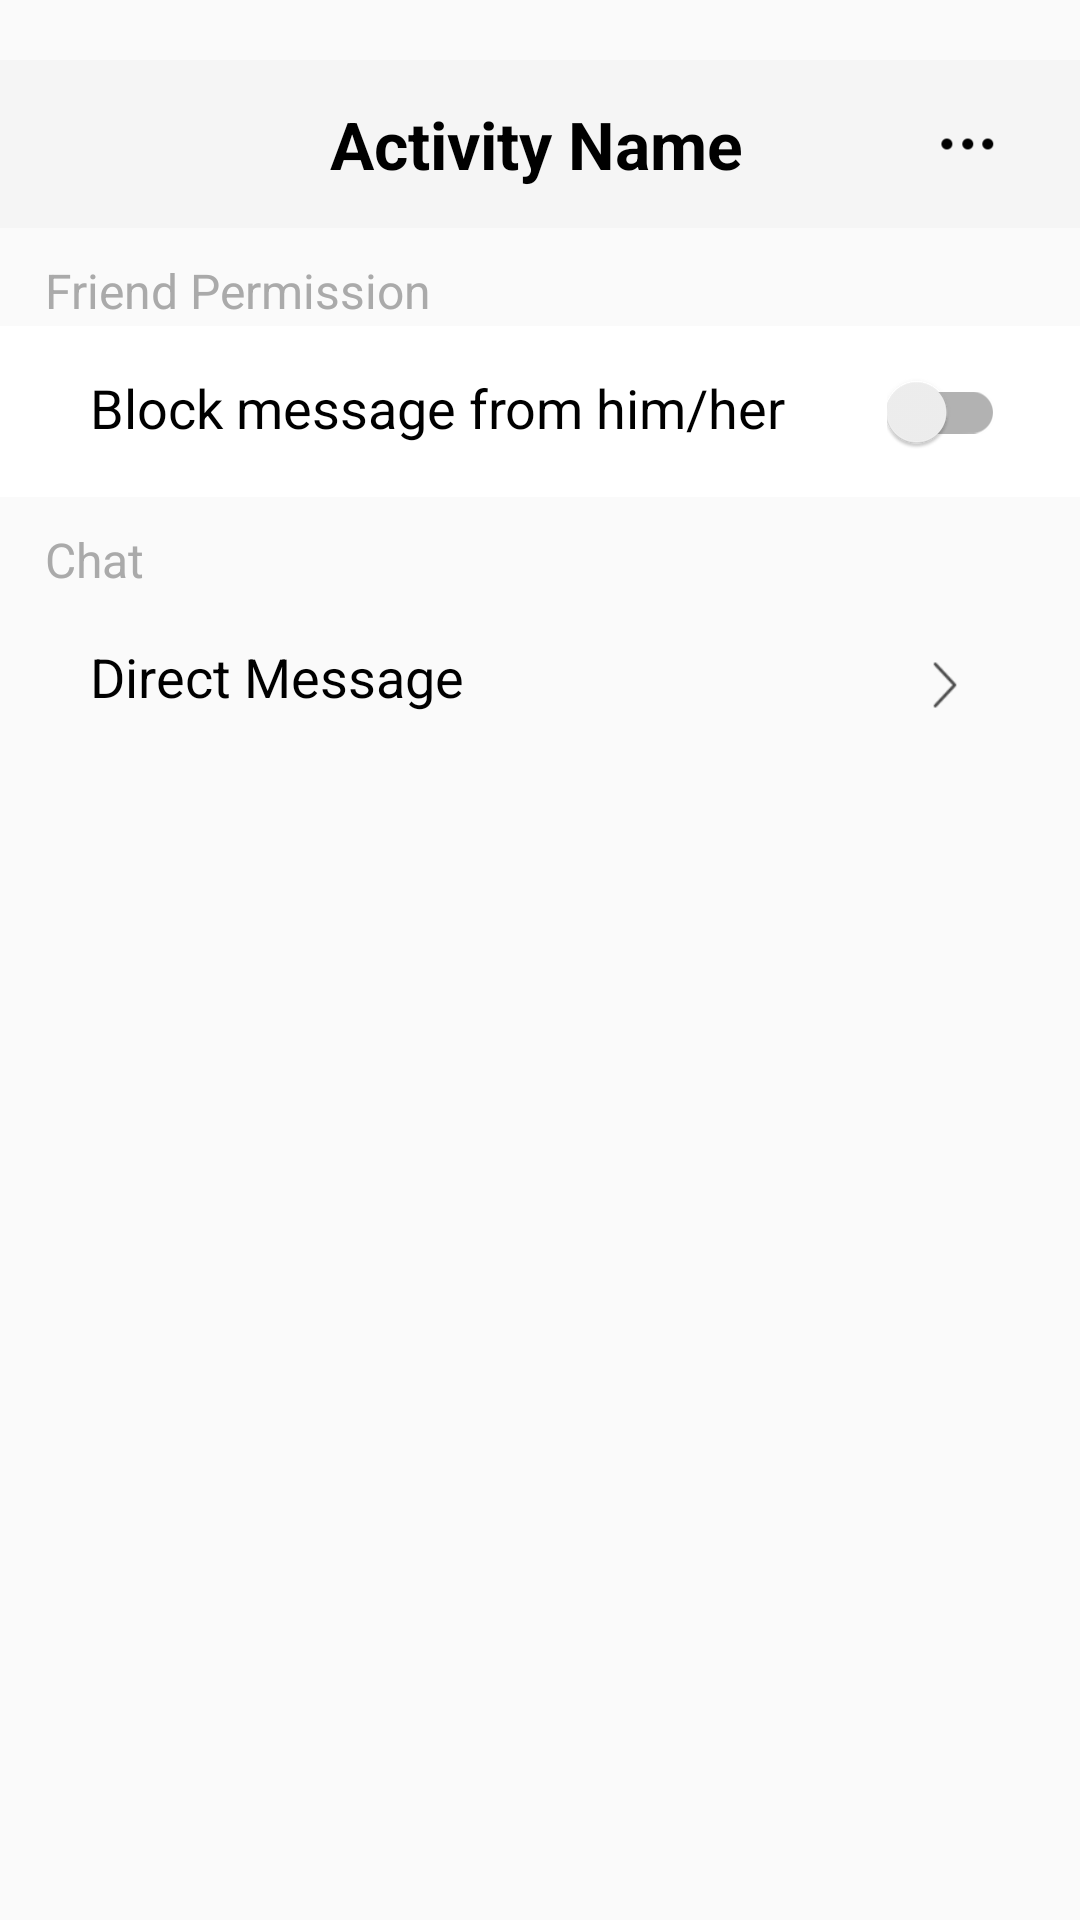

Icon click points for this 1080px x 1920px phone screenshot, format point (x, y):
navbar more: point (967, 144)
perfect user more: point (945, 685)
